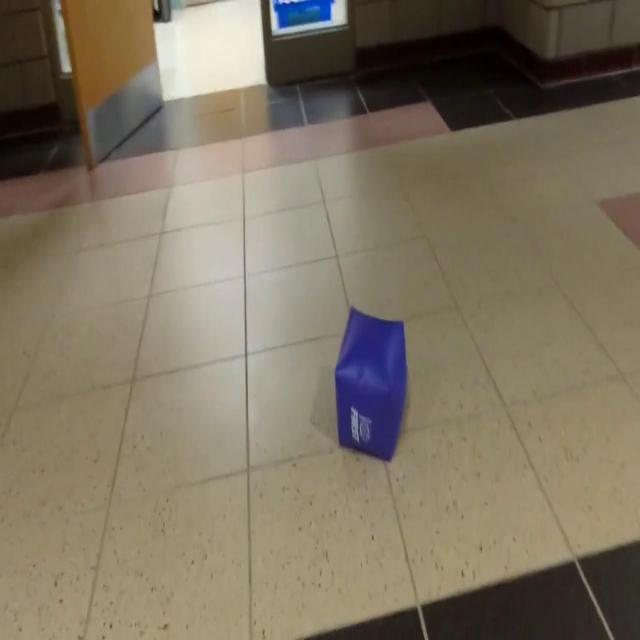frc_cube: (332, 305, 407, 464)
